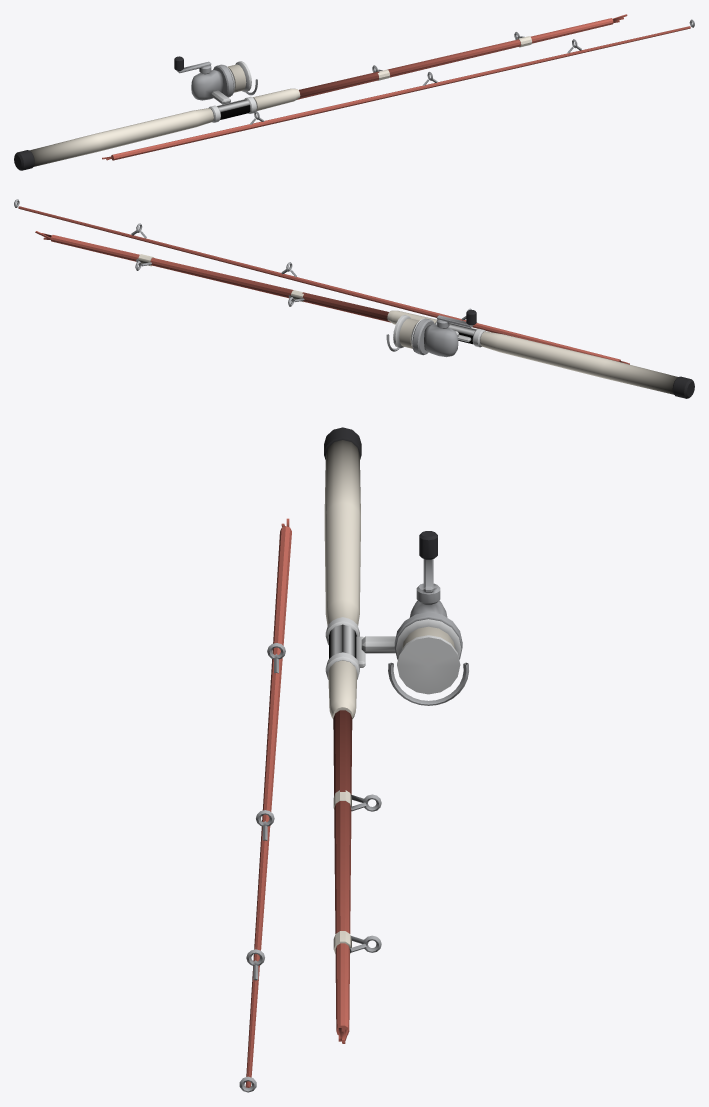
Rendered from junk_rod.glb.
3 views of the same model, one above another, from view 1: azimuth 30°, elevation 25°; view 2: azimuth 150°, elevation 25°; view 3: azimuth 270°, elevation 25° (orthographic). The views are drawn at different scales.
Visible parts, largest first — view 1: PART; view 2: PART; view 3: PART.
Boxes of the visible parts, x1,y1,x2,y2 form: PART: [14, 14, 694, 170]; PART: [14, 199, 694, 398]; PART: [239, 427, 468, 1092].
Bounding box in the file's own units: 1.19 × 0.0922 × 0.1818.
